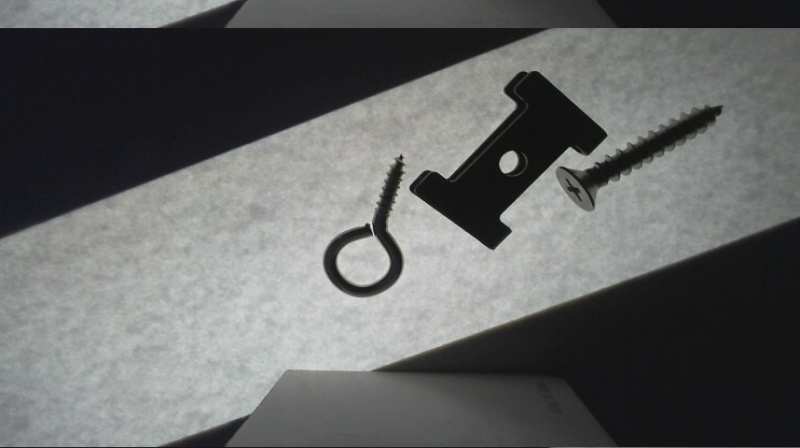O001: (320, 151, 409, 298)
O002: (406, 71, 610, 251)
S001: (556, 102, 726, 211)
